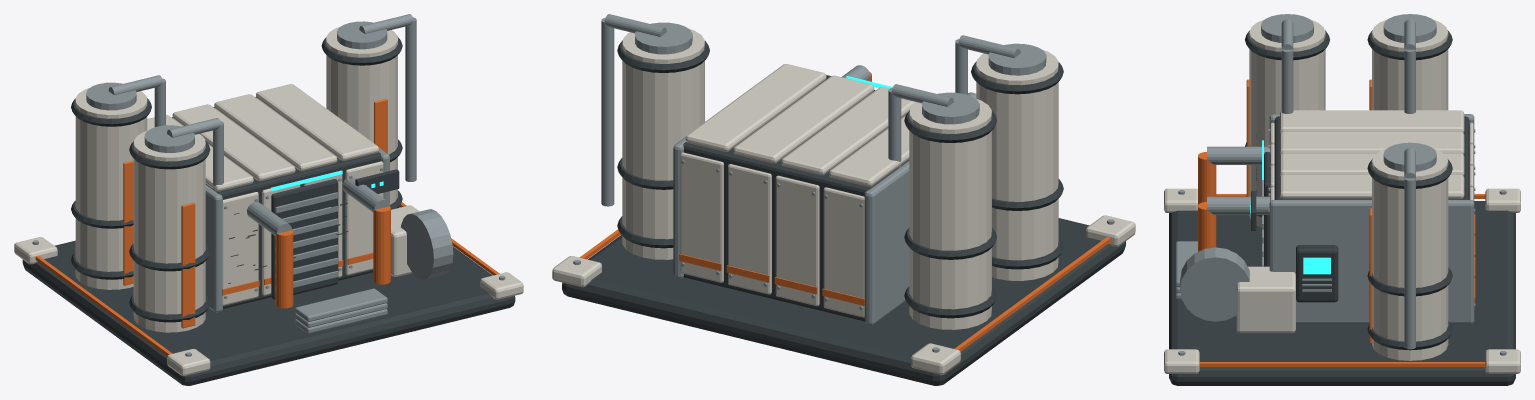
The model's file is SM_GroundwaterPump_Body.002.fbx.
The picture shows the model from 3 angles, left to right: view 1: azimuth 30°, elevation 25°; view 2: azimuth 150°, elevation 25°; view 3: azimuth 270°, elevation 25°; orthographic projection. The views are drawn at different scales.
Visible parts, largest first — view 1: SM_GroundwaterPump_Body.002; view 2: SM_GroundwaterPump_Body.002; view 3: SM_GroundwaterPump_Body.002.
Part boxes in pixels (box(x1,y1,x2,y2)): SM_GroundwaterPump_Body.002: box(14, 14, 523, 385); SM_GroundwaterPump_Body.002: box(552, 14, 1135, 385); SM_GroundwaterPump_Body.002: box(1164, 14, 1520, 385).
Bounding box in the file's own units: 503 × 422 × 287.
